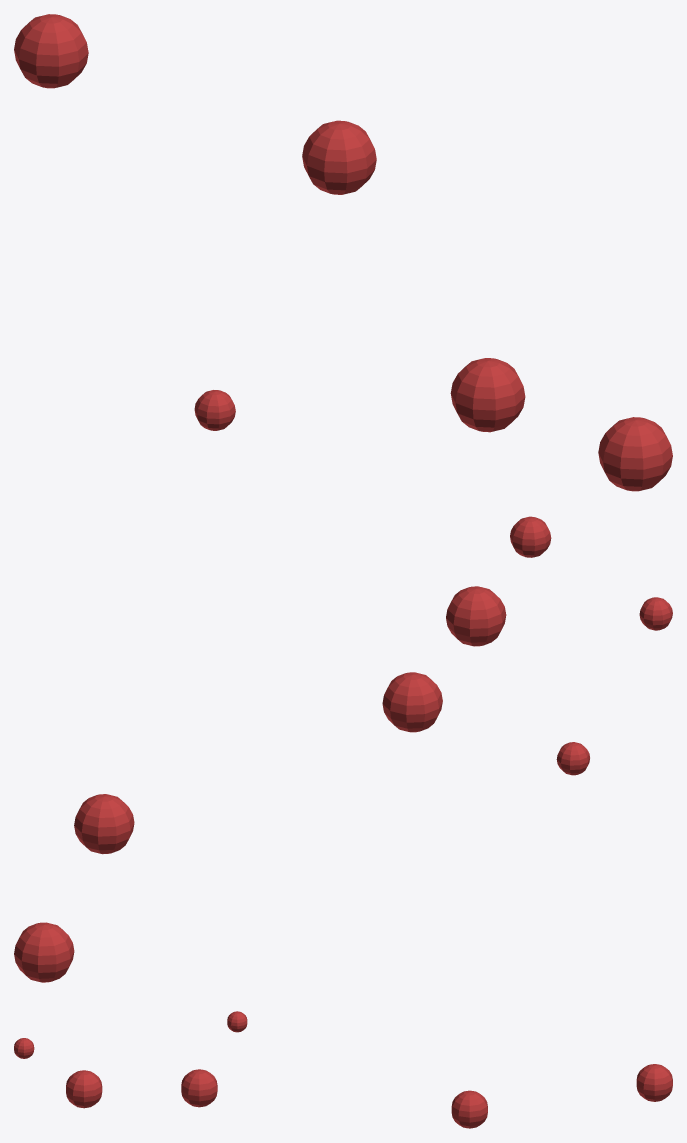
Rendered from Maps.fbx.
The picture shows the model from 3 angles, top to bottom: view 1: azimuth 30°, elevation 25°; view 2: azimuth 150°, elevation 25°; view 3: azimuth 270°, elevation 25°; orthographic projection. The views are drawn at different scales.
Parts seen in each view (by area): view 1: Maps; view 2: Maps; view 3: Maps.
Boxes of the visible parts, bbox=[...] form: Maps: bbox=[14, 14, 672, 557]; Maps: bbox=[14, 586, 672, 982]; Maps: bbox=[14, 1011, 672, 1128].
Size of the model in its own units: 2044 by 403 by 5677.
